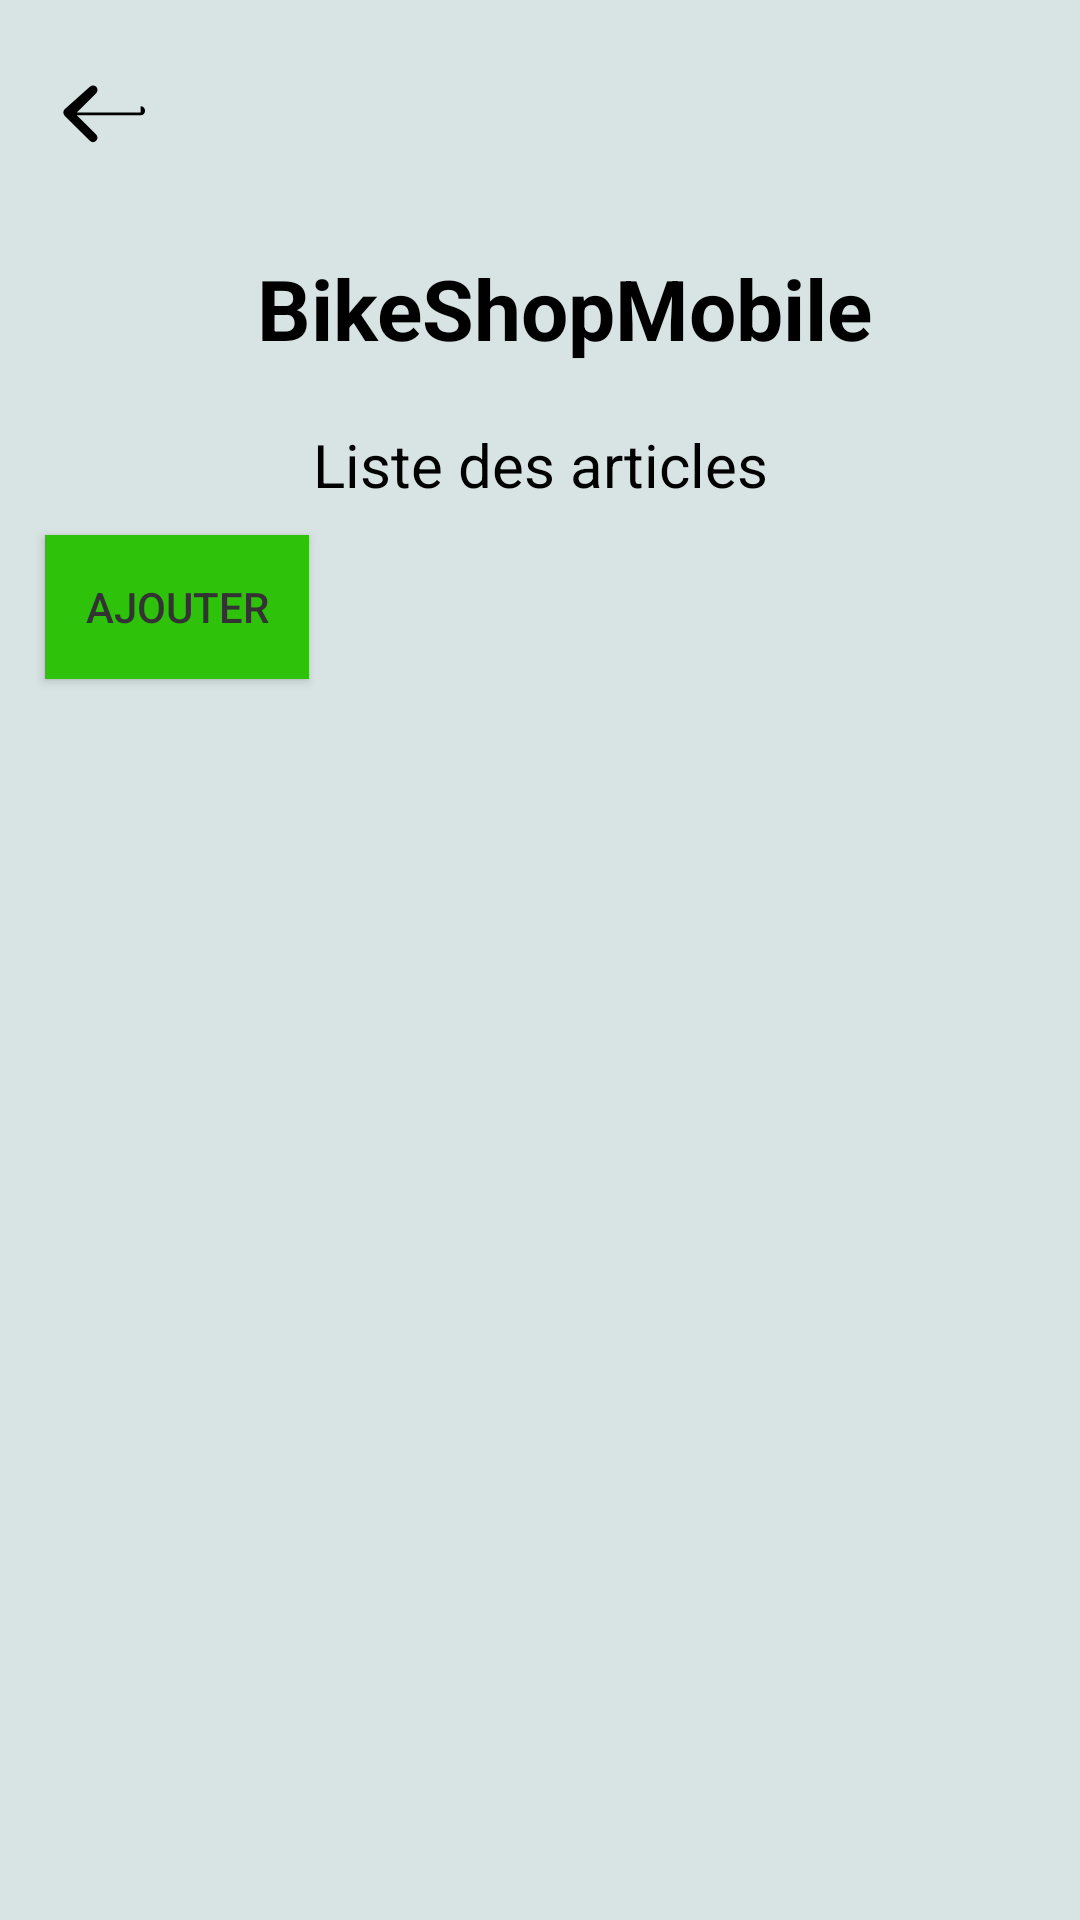

Icon click points for this 1080px×1920px phone screenshot, format (x,y):
back: (104,114)
